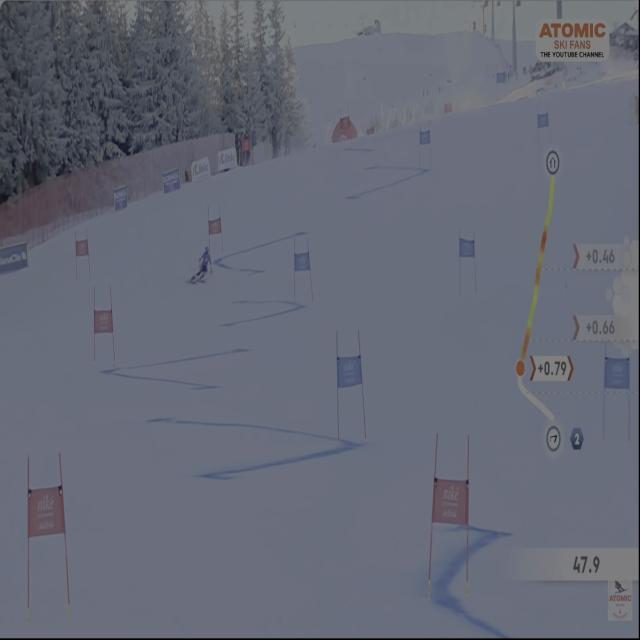gate: (54, 429, 82, 613), (456, 431, 488, 589), (14, 444, 43, 616), (326, 322, 348, 467), (349, 328, 372, 440), (426, 422, 437, 600)
